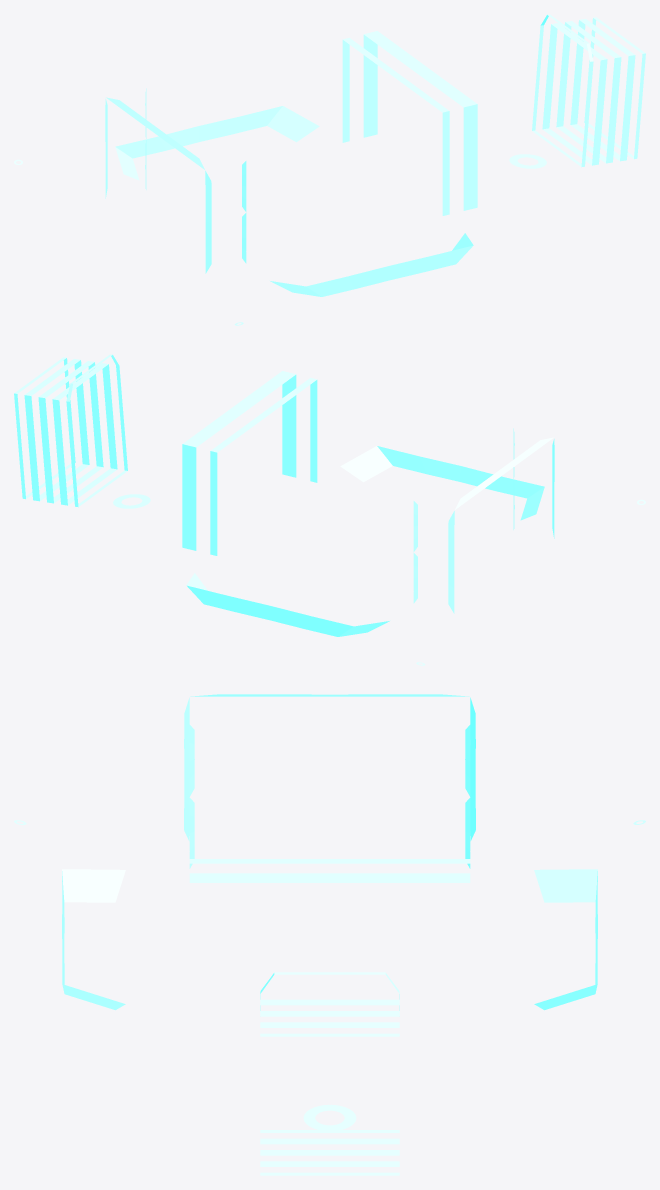
Rendered from spaceship led.fbx.
3 renders of one model, top to bottom at view 1: azimuth 30°, elevation 25°; view 2: azimuth 150°, elevation 25°; view 3: azimuth 270°, elevation 25°, orthographic. The views are drawn at different scales.
Visible parts, largest first — view 1: spaceship led; view 2: spaceship led; view 3: spaceship led.
Boxes of the visible parts, left/top/right/bottom form: spaceship led: left=14, top=14, right=645, bottom=325; spaceship led: left=14, top=354, right=645, bottom=665; spaceship led: left=14, top=694, right=645, bottom=1175.
Bounding box in the file's own units: 444 × 106 × 349.
